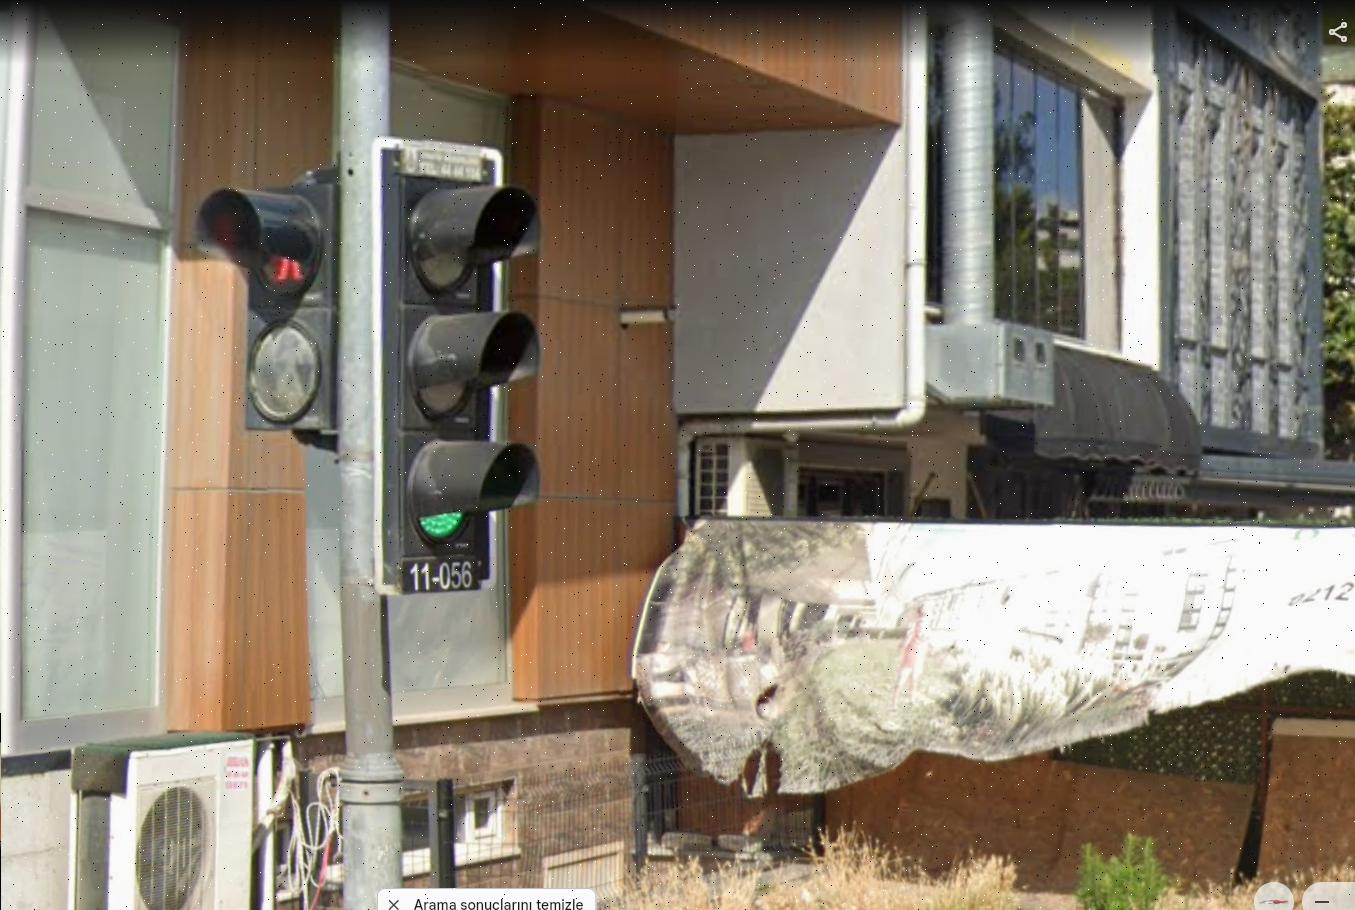greenlight: (391, 173, 547, 539)
